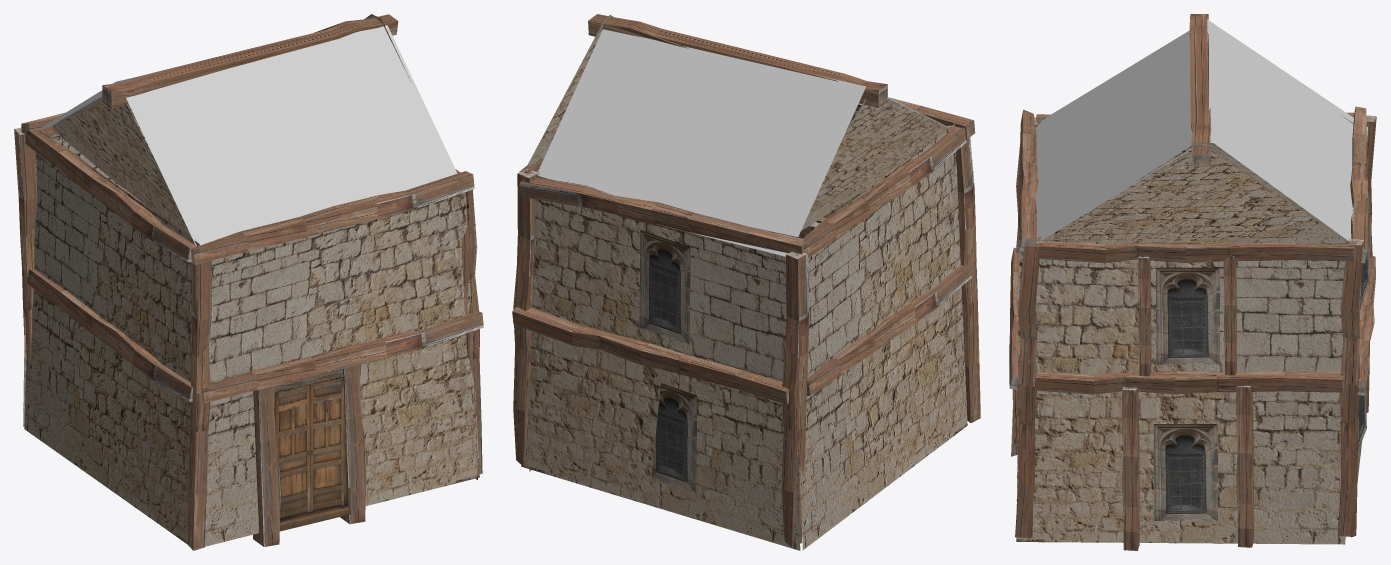
File: dom.fbx
The picture shows the model from 3 angles, left to right: view 1: azimuth 30°, elevation 25°; view 2: azimuth 150°, elevation 25°; view 3: azimuth 270°, elevation 25°; orthographic projection.
Visible parts, largest first — view 1: Plane.006, Plane.001, Plane.004, Plane.003, Plane.009, Cube.015, Cube.013, Cube.006, Cube.001, Cube.011, Cube.012, Cube.004 (+4 smaller); view 2: Plane.005, Plane.007, Plane.004, Plane.009, Cube.007, Cube.014, Cube.016, Plane.011, Cube.008, Cube.011, Cube.006, Plane.012 (+4 smaller); view 3: Plane, Plane.001, Plane.007, Plane.008, Plane.010, Plane.002, Cube.010, Cube.009, Cube.008, Cube.005, Cube.001, Cube.018 (+9 smaller).
Boxes of the visible parts, x1,y1,x2,y2 form: Plane.006: (204, 192, 479, 546); Plane.001: (126, 25, 457, 245); Plane.004: (24, 131, 199, 544); Plane.003: (274, 369, 350, 531); Plane.009: (53, 96, 192, 238); Cube.015: (190, 171, 474, 264); Cube.013: (201, 311, 483, 403); Cube.006: (188, 261, 212, 550); Cube.001: (102, 14, 398, 108); Cube.011: (25, 130, 197, 262); Cube.012: (27, 269, 192, 401); Cube.004: (253, 370, 280, 546); Plane.005: (521, 175, 800, 550); Plane.007: (538, 29, 866, 256); Plane.004: (799, 123, 967, 550); Plane.009: (785, 98, 948, 233); Cube.007: (781, 251, 809, 547); Cube.014: (512, 307, 789, 404); Cube.016: (519, 177, 804, 253); Plane.011: (639, 230, 690, 344); Cube.008: (513, 168, 539, 466); Cube.011: (804, 127, 966, 258); Cube.006: (947, 125, 980, 422); Plane.012: (651, 383, 697, 492); Plane: (1016, 240, 1345, 544); Plane.001: (1035, 30, 1192, 241); Plane.007: (1207, 19, 1367, 240); Plane.008: (1047, 142, 1352, 244); Plane.010: (1156, 267, 1219, 364); Plane.002: (1153, 424, 1217, 520); Cube.010: (1024, 371, 1343, 394); Cube.009: (1035, 237, 1356, 263); Cube.008: (1337, 238, 1364, 536); Cube.005: (1015, 245, 1039, 538); Cube.001: (1189, 14, 1211, 166); Cube.018: (1122, 387, 1139, 550).
Size of the model in its own units: 3735 by 4888 by 3967.
